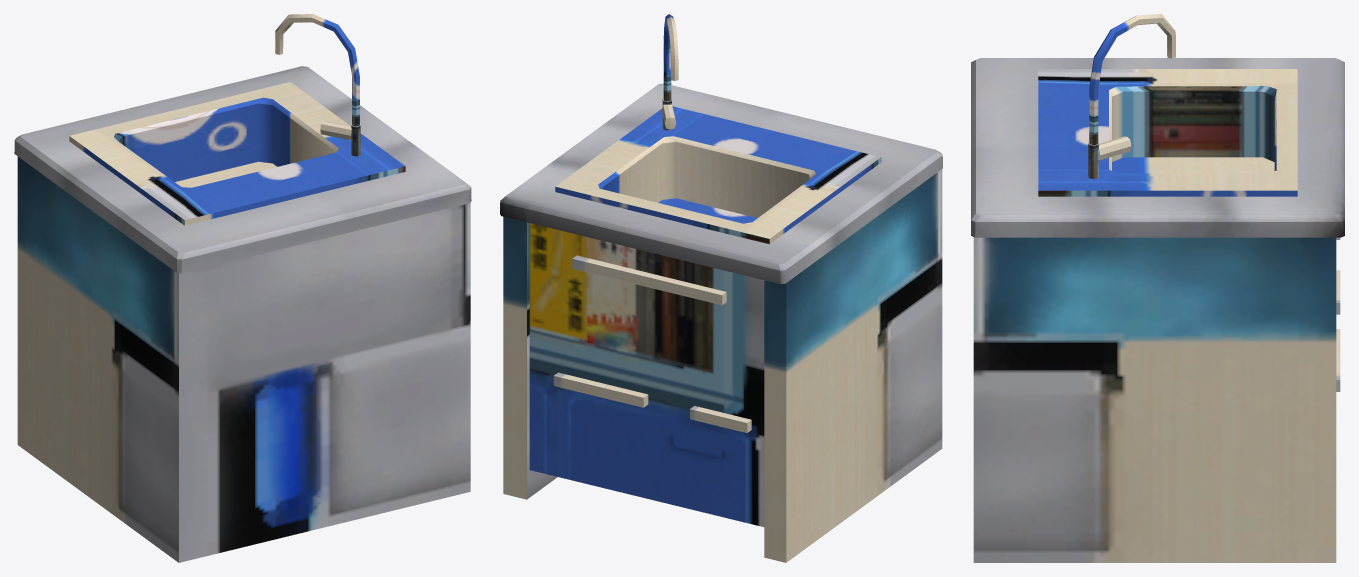
Rendered from furni_0200521.FBX.
The picture shows the model from 3 angles, left to right: view 1: azimuth 30°, elevation 25°; view 2: azimuth 150°, elevation 25°; view 3: azimuth 270°, elevation 25°; orthographic projection. The views are drawn at different scales.
Parts seen in each view (by area): view 1: furni_0200521; view 2: furni_0200521; view 3: furni_0200521.
Part boxes in pixels (left/top/right/bottom): furni_0200521: left=14, top=14, right=471, bottom=562; furni_0200521: left=500, top=14, right=942, bottom=562; furni_0200521: left=971, top=14, right=1344, bottom=562.
Size of the model in its own units: 79.98 by 116 by 78.16.
1 material, 1 textured.
